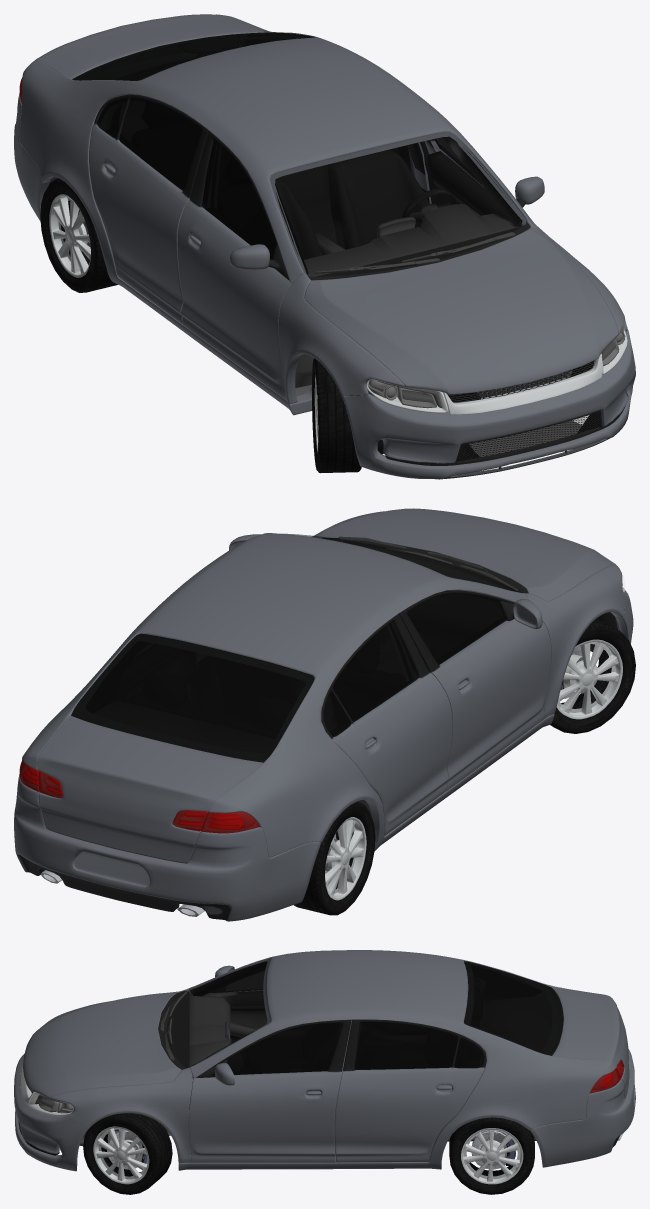
File: auto.glb
The picture shows the model from 3 angles, top to bottom: view 1: azimuth 30°, elevation 25°; view 2: azimuth 150°, elevation 25°; view 3: azimuth 270°, elevation 25°; orthographic projection. The views are drawn at different scales.
Visible parts, largest first — view 1: Object_135, Object_125, Object_209, Object_23, Object_41, Object_53, Object_73, Object_85, Object_33, Object_203, Object_61, Object_45 (+21 smaller); view 2: Object_135, Object_91, Object_203, Object_27, Object_41, Object_53, Object_125, Object_73, Object_61, Object_45, Object_249, Object_247 (+8 smaller); view 3: Object_135, Object_39, Object_51, Object_125, Object_209, Object_91, Object_71, Object_27, Object_203, Object_59, Object_43, Object_23 (+14 smaller).
Part boxes in pixels (<box>): Object_135: <box>19,14,533,415</box>; Object_125: <box>304,227,618,394</box>; Object_209: <box>270,132,527,276</box>; Object_23: <box>342,328,635,479</box>; Object_41: <box>177,131,291,396</box>; Object_53: <box>89,94,208,323</box>; Object_73: <box>278,273,404,404</box>; Object_85: <box>328,149,428,249</box>; Object_33: <box>304,204,520,276</box>; Object_203: <box>39,14,264,79</box>; Object_61: <box>119,98,201,190</box>; Object_45: <box>202,139,276,259</box>; Object_135: <box>20,533,554,857</box>; Object_91: <box>71,633,314,762</box>; Object_203: <box>37,715,263,863</box>; Object_27: <box>14,774,320,921</box>; Object_41: <box>398,590,551,790</box>; Object_53: <box>321,614,452,835</box>; Object_125: <box>312,508,615,601</box>; Object_73: <box>525,564,625,718</box>; Object_61: <box>333,621,419,721</box>; Object_45: <box>407,593,505,664</box>; Object_249: <box>556,639,622,719</box>; Object_247: <box>550,617,635,733</box>; Object_135: <box>178,950,621,1170</box>; Object_39: <box>188,1019,351,1162</box>; Object_51: <box>334,1019,486,1162</box>; Object_125: <box>23,991,181,1098</box>; Object_209: <box>167,958,270,1068</box>; Object_91: <box>464,961,563,1055</box>; Object_71: <box>49,1067,192,1163</box>; Object_27: <box>530,1049,635,1167</box>; Object_203: <box>552,987,629,1098</box>; Object_59: <box>354,1022,457,1069</box>; Object_43: <box>227,1023,342,1074</box>; Object_23: <box>14,1054,89,1171</box>.
Bounding box in the file's own units: 2.16 × 1.5 × 4.98.
21 materials, 7 textured.
